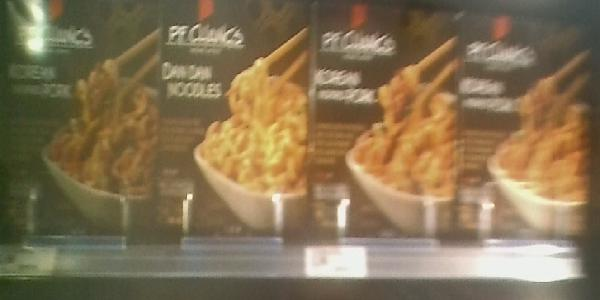pizza1: (310, 1, 460, 249), (160, 1, 308, 249), (6, 1, 156, 240), (460, 1, 596, 245)
